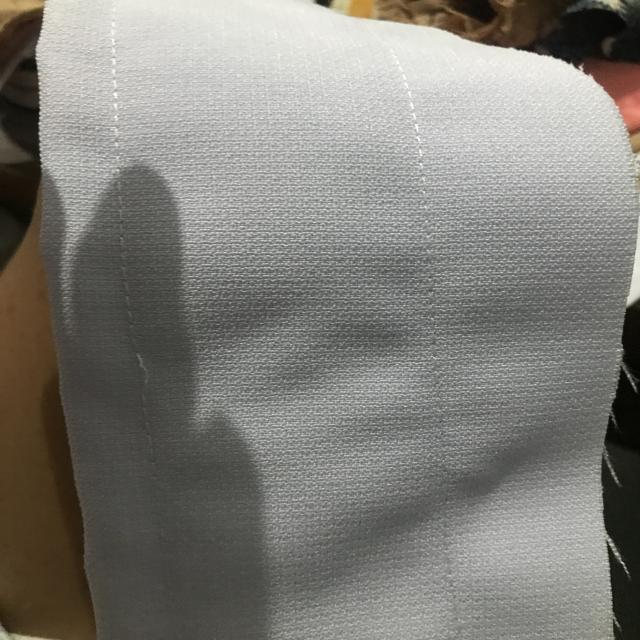good: (107, 203, 156, 309)
skip: (121, 336, 164, 409)
